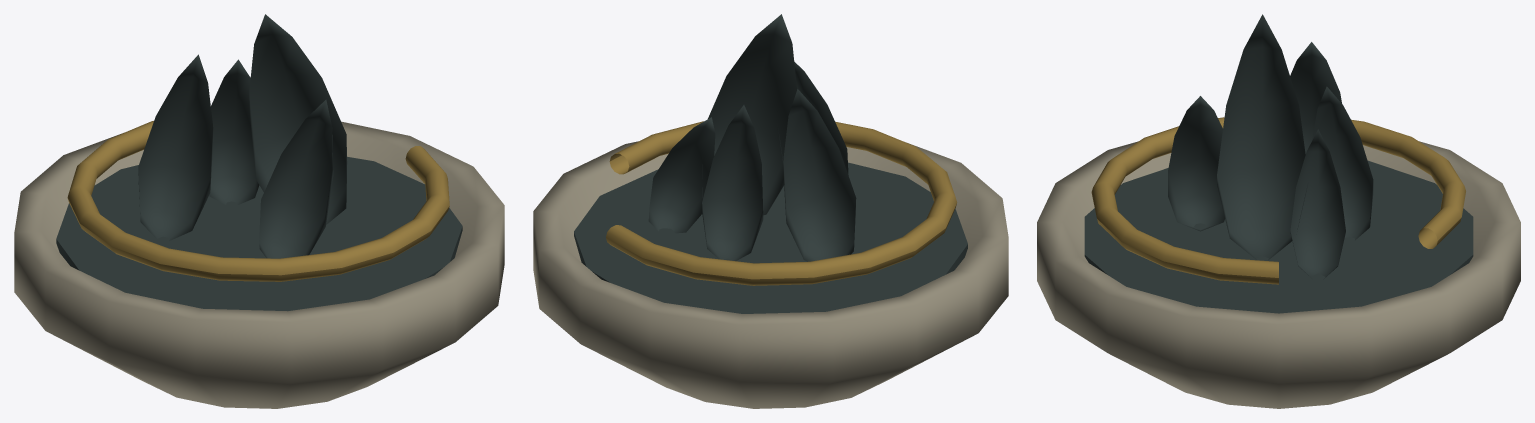
The model's file is bell_salt.obj.
The picture shows the model from 3 angles, left to right: view 1: azimuth 30°, elevation 25°; view 2: azimuth 150°, elevation 25°; view 3: azimuth 270°, elevation 25°; orthographic projection. The views are drawn at different scales.
Parts seen in each view (by area): view 1: bell_salt; view 2: bell_salt; view 3: bell_salt.
Part boxes in pixels (x1,y1,x2,y2): bell_salt: (14, 14, 504, 408); bell_salt: (533, 14, 1008, 408); bell_salt: (1037, 14, 1520, 408).
Bounding box in the file's own units: 1.48 × 1.14 × 1.48.
